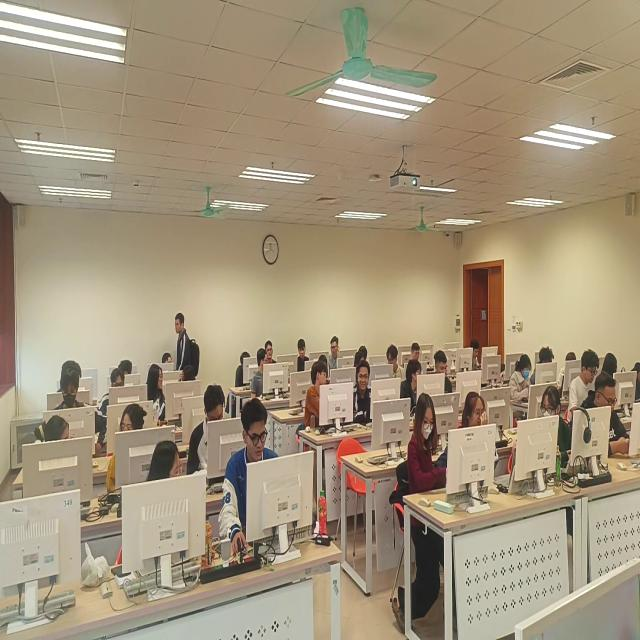raise_head: (297, 338, 309, 371), (265, 341, 277, 365)
using_computer: (54, 368, 108, 458), (186, 383, 236, 478), (581, 373, 632, 461), (408, 393, 451, 491), (569, 350, 602, 420), (101, 370, 125, 417), (511, 355, 533, 401), (237, 350, 252, 388), (471, 340, 483, 373), (62, 361, 83, 378), (320, 356, 331, 379), (412, 344, 422, 367), (120, 359, 134, 374), (354, 351, 364, 367), (360, 344, 369, 360), (163, 351, 174, 364)
